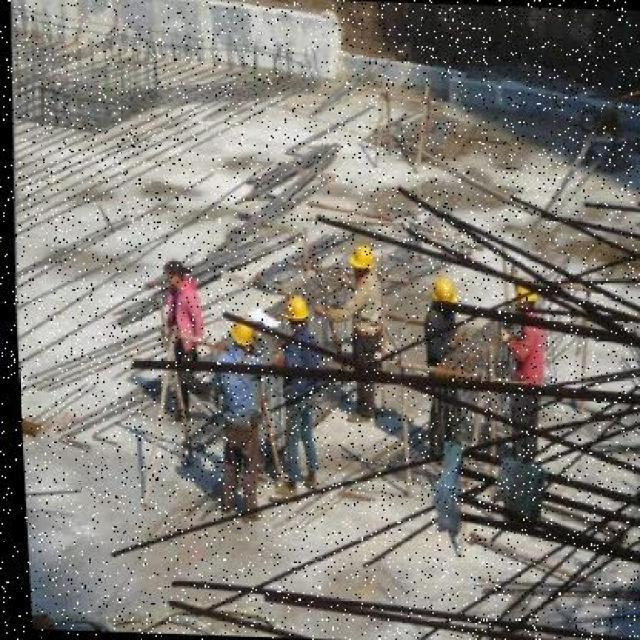helmet: (223, 317, 253, 353), (429, 271, 453, 308), (345, 245, 373, 274), (277, 294, 306, 322)
